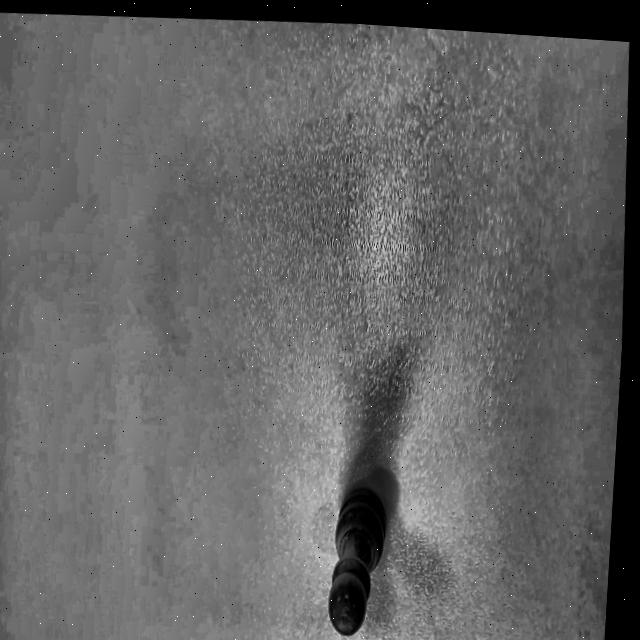black-pawn: (311, 475, 396, 640)
